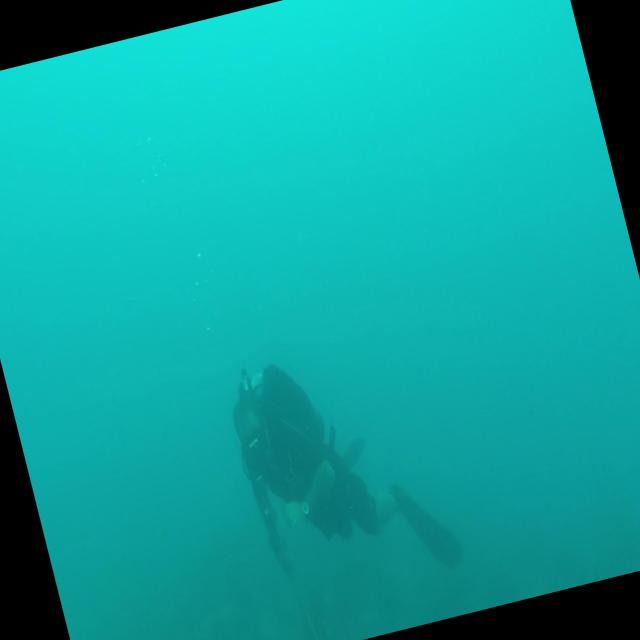human: (218, 325, 467, 613)
